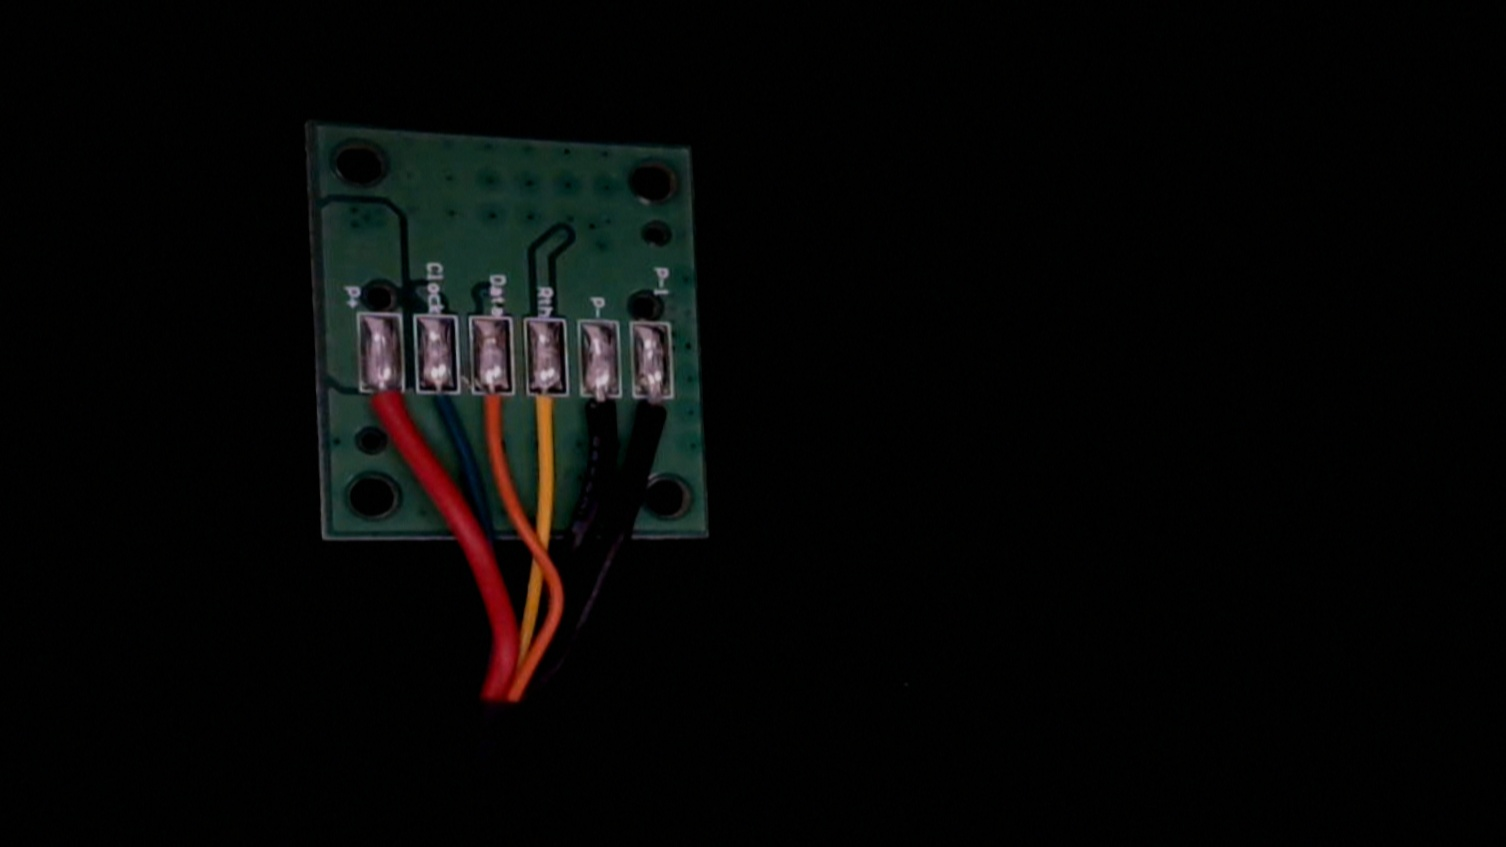Black: (575, 369, 626, 458)
Black1: (633, 374, 682, 455)
Green: (418, 362, 464, 435)
Orange: (472, 365, 520, 452)
Red: (358, 367, 404, 442)
Yellow: (523, 367, 574, 457)
